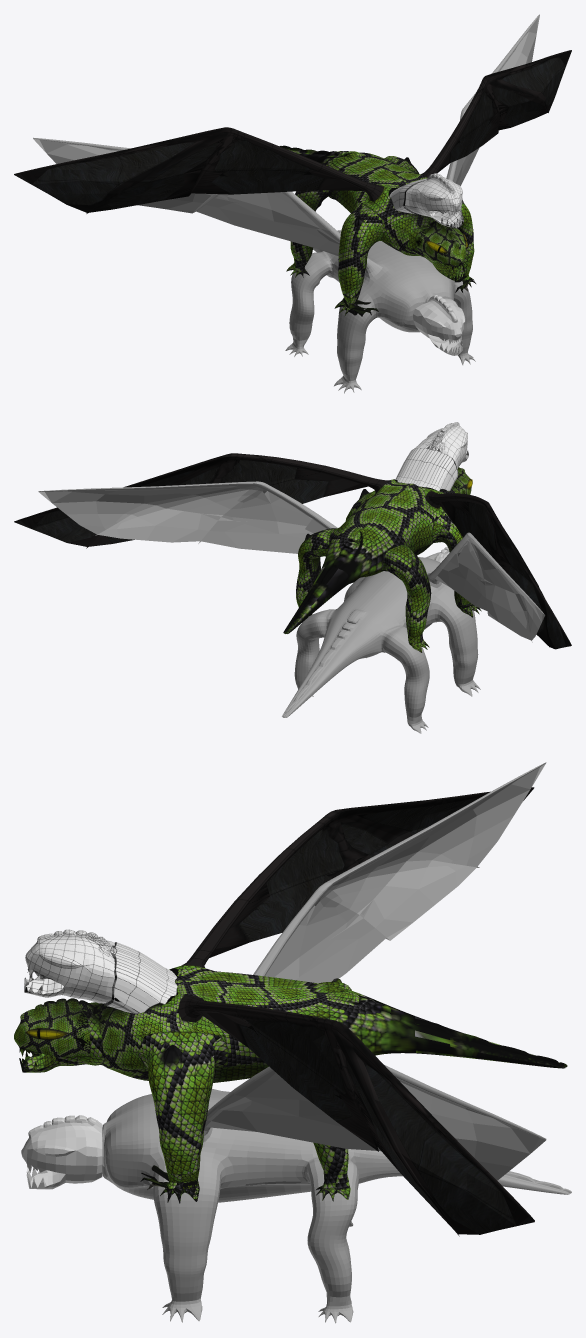
Rendered from monster_000034.obj.
3 renders of one model, top to bottom at view 1: azimuth 30°, elevation 25°; view 2: azimuth 150°, elevation 25°; view 3: azimuth 270°, elevation 25°, orthographic. The views are drawn at different scales.
Visible parts, largest first — view 1: body_Cube, bodyCopy_Cube.003, secondHead_Cube.002, headcopy_Cube.006; view 2: bodyCopy_Cube.003, body_Cube, secondHead_Cube.002; view 3: body_Cube, bodyCopy_Cube.003, secondHead_Cube.002, headcopy_Cube.006.
Boxes of the visible parts, <box> form: body_Cube: <box>14,50,571,316</box>; bodyCopy_Cube.003: <box>33,14,539,393</box>; secondHead_Cube.002: <box>389,173,463,228</box>; headcopy_Cube.006: <box>413,295,465,355</box>; bodyCopy_Cube.003: <box>38,481,544,733</box>; body_Cube: <box>14,453,571,652</box>; secondHead_Cube.002: <box>395,422,468,490</box>; body_Cube: <box>14,787,567,1236</box>; bodyCopy_Cube.003: <box>102,762,571,1323</box>; secondHead_Cube.002: <box>24,929,177,1013</box>; headcopy_Cube.006: <box>21,1115,102,1189</box>.
Bounding box in the file's own units: 9.78 × 4.06 × 5.56.
